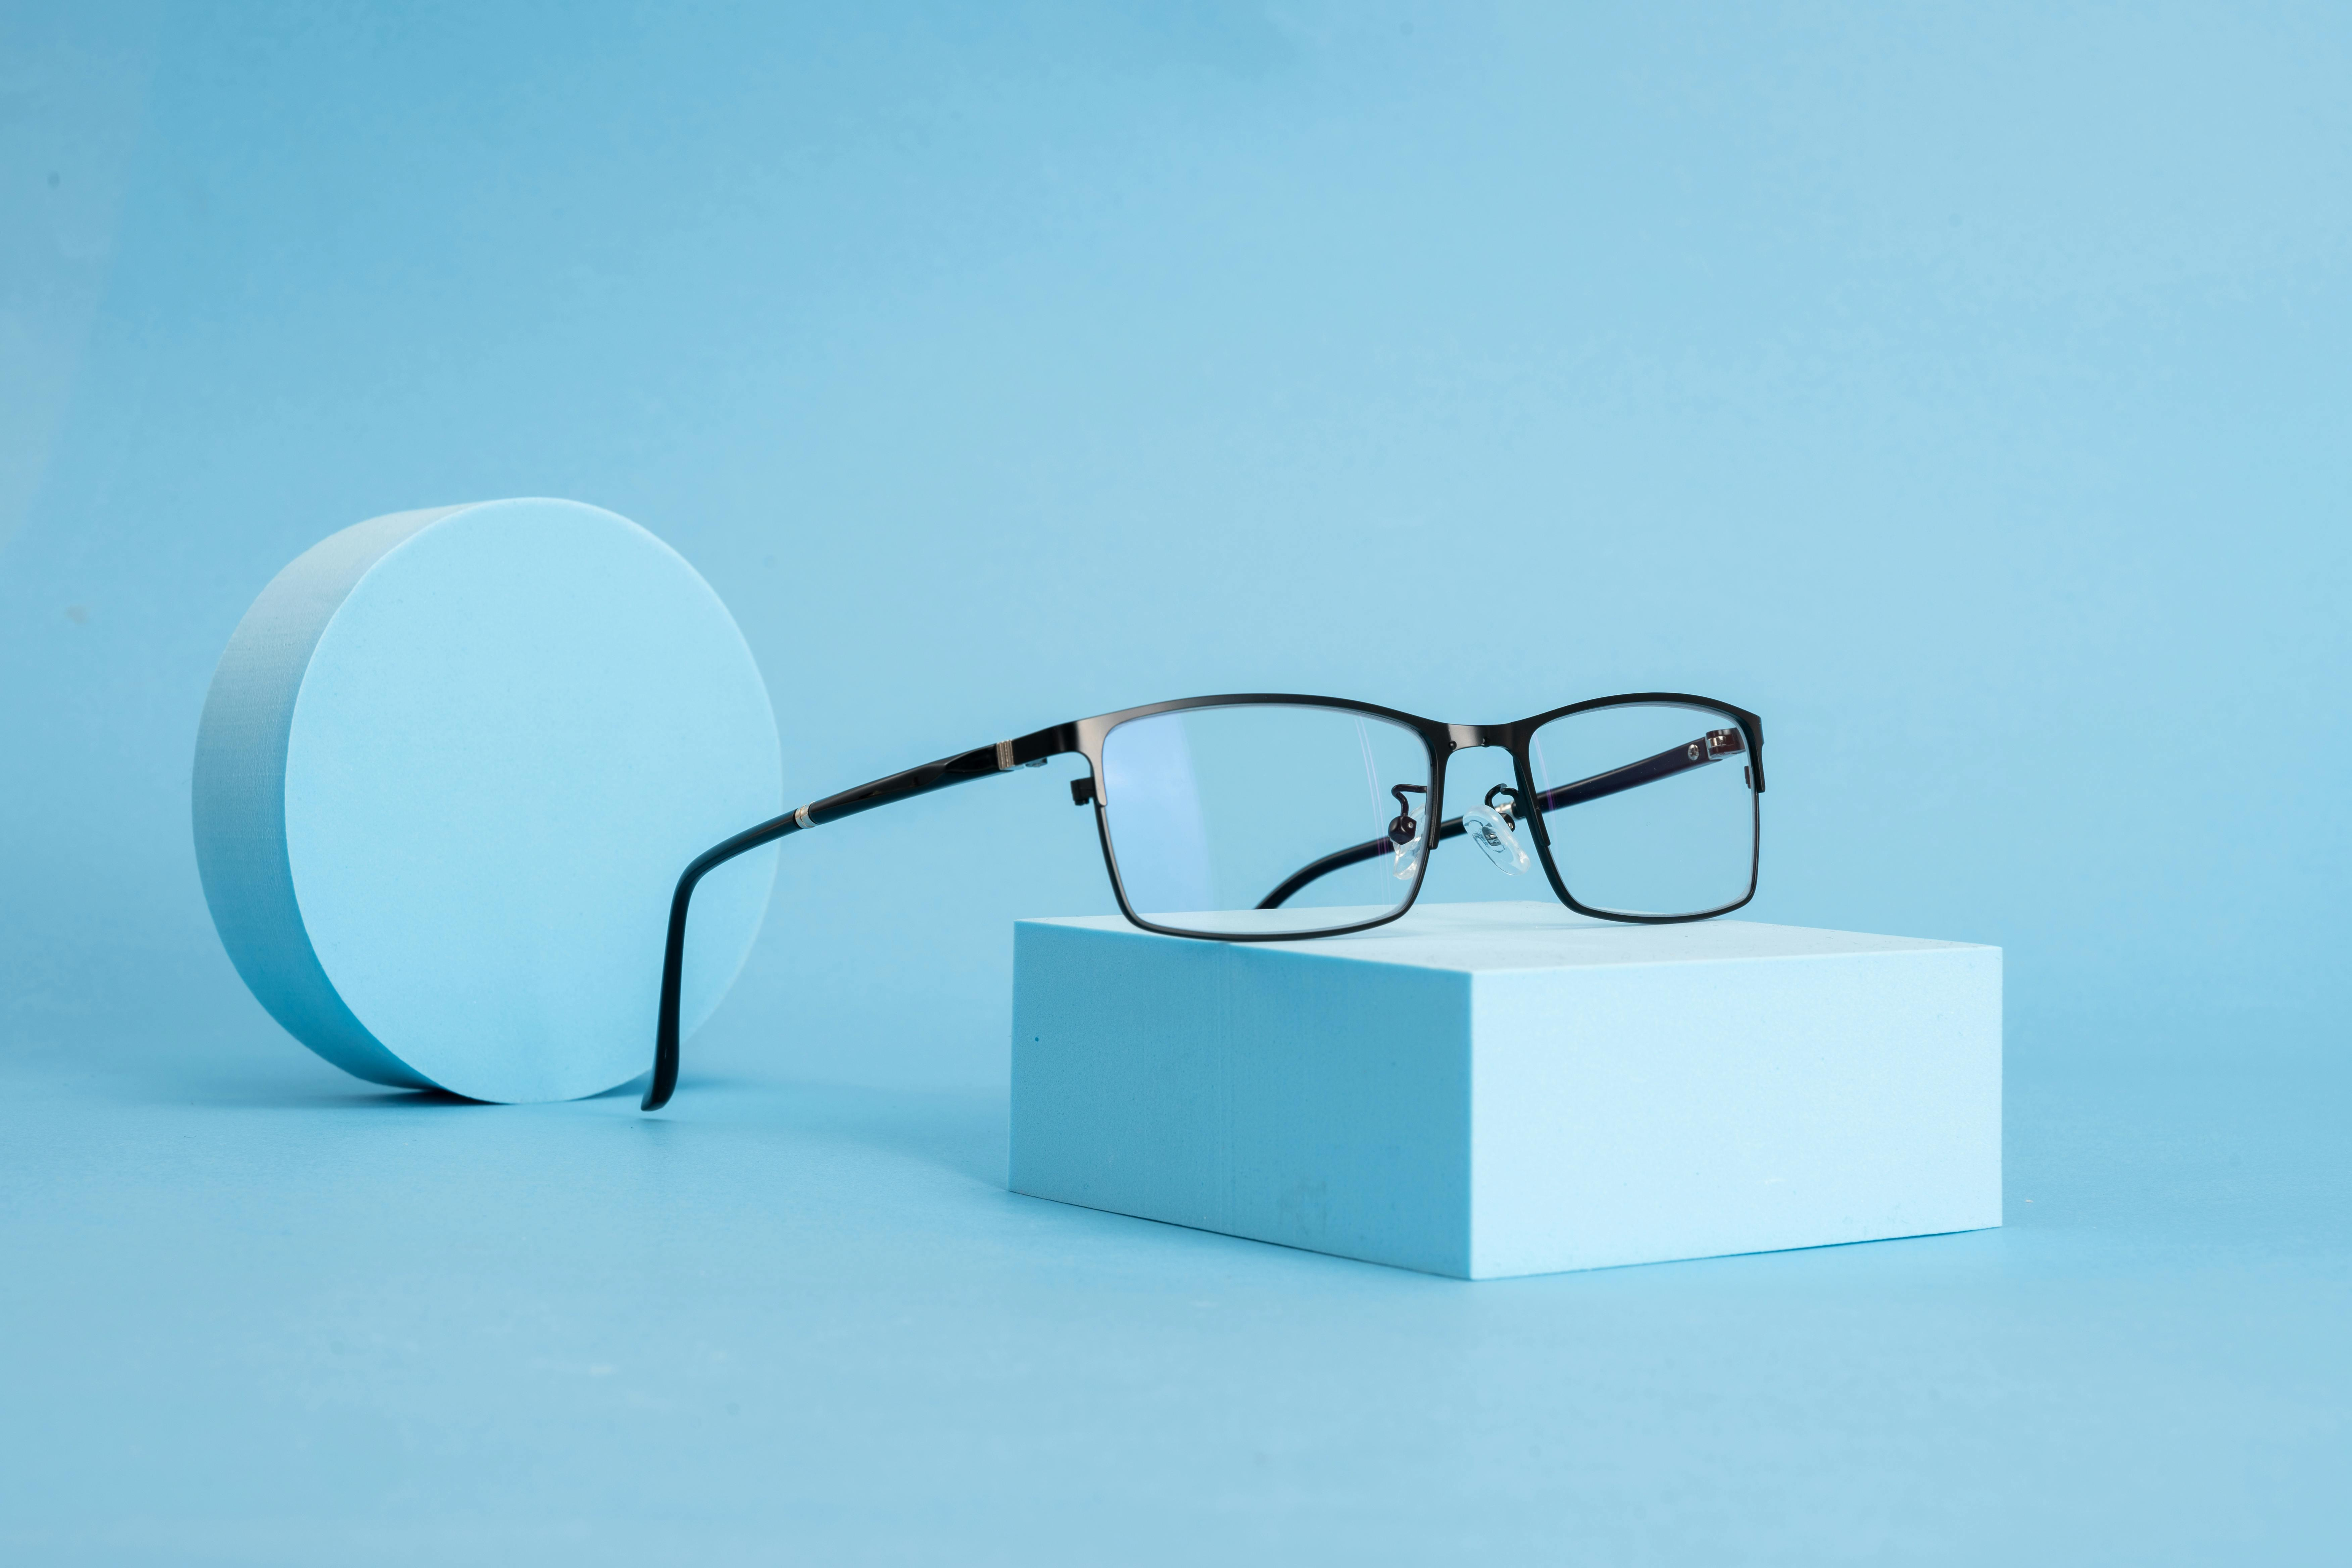spectacles: (878, 690, 1813, 945)
